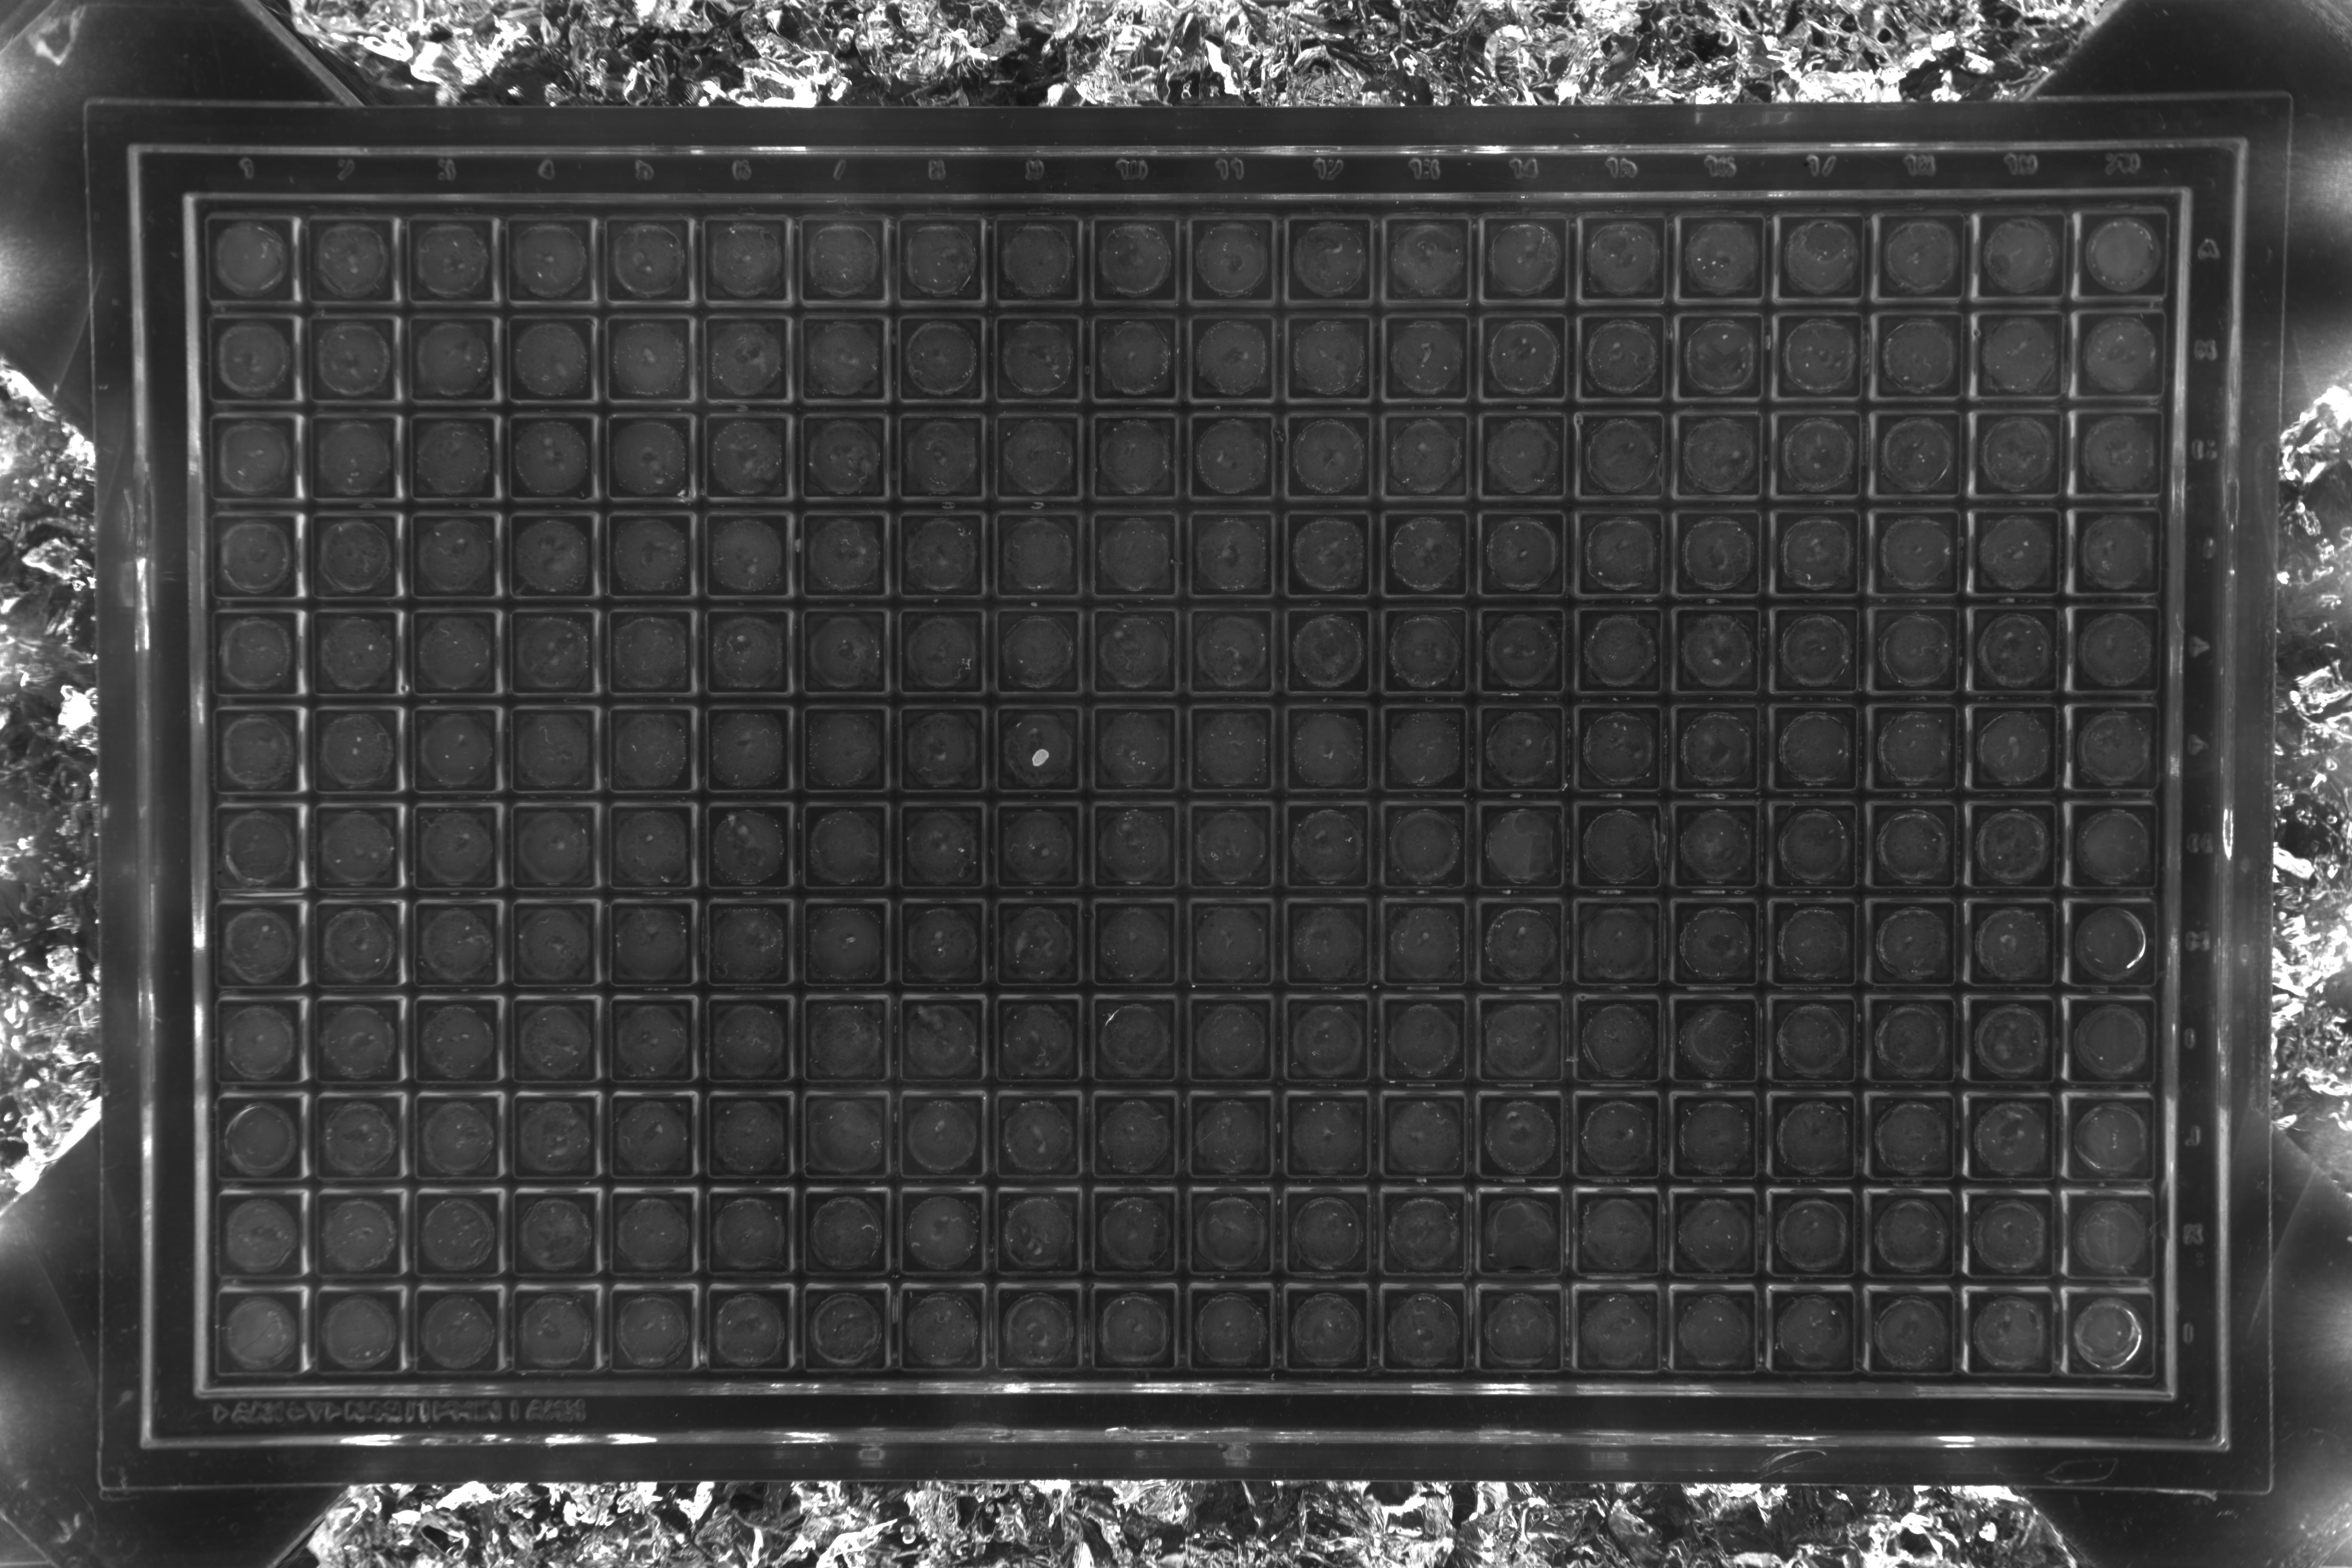WM_well: (201, 635, 290, 723), (397, 633, 486, 721), (492, 436, 581, 523), (588, 338, 677, 425), (595, 1020, 684, 1108), (303, 1216, 390, 1304), (390, 238, 478, 325), (497, 730, 584, 817), (693, 1018, 780, 1106), (787, 534, 875, 621), (1078, 241, 1165, 329), (1080, 436, 1167, 523), (1176, 436, 1263, 523), (1466, 822, 1554, 910), (1468, 434, 1556, 521), (1470, 138, 1557, 226), (1563, 1113, 1650, 1200), (1563, 1017, 1650, 1104), (1568, 136, 1655, 224), (1664, 432, 1752, 520), (1666, 332, 1753, 420), (1762, 628, 1850, 716), (1857, 1115, 1944, 1202), (1956, 919, 2044, 1006), (2063, 227, 2151, 315)
